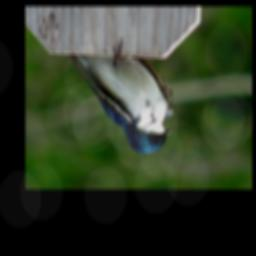Swallow: (66, 37, 175, 156)
